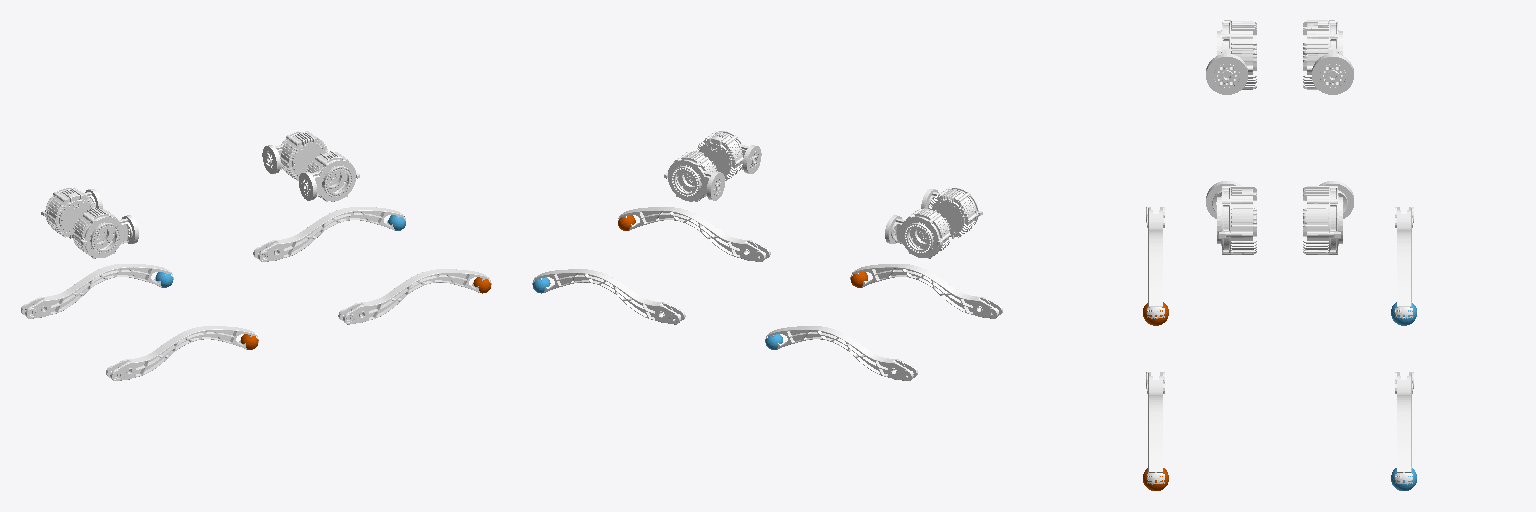
robot.urdf — A01-B:
<?xml version="1.0" encoding="utf-8"?>
<!-- This URDF was automatically created by SolidWorks to URDF Exporter! Originally created by [author] ([email redacted]) 
     Commit Version: 1.6.0-4-g7f85cfe  Build Version: 1.6.7995.38578
     For more information, please see http://wiki.ros.org/sw_urdf_exporter -->
<robot name="A01-B">
  <link name="base_link">
    <visual>
      <origin xyz="0 0 0" rpy="0 0 0"/>
      <geometry>
        <mesh filename="../meshes/trunk.dae"/>
      </geometry>
      <material name="base_color">
        <color rgba="0.79216 0.81961 0.93333 1"/>
      </material>
    </visual>
    <collision>
      <origin xyz="0 0 0" rpy="0 0 0"/>
      <geometry>
        <mesh filename="../meshes/trunk.dae"/>
      </geometry>
    </collision>
  </link>

  <joint name="base_inertia_to_base" type="fixed">
        <parent link="base_link"/>
        <child link="base_inertia"/>
        <origin rpy="0 0 0" xyz="0 0 0"/>
  </joint>
  <link name="base_inertia">
    <inertial>
      <origin xyz="0.00794154323126122 -0.00567038545002237 0.00730825848962973" rpy="0 0 0"/>
      <mass value="30.0746"/>
      <inertia
        ixx="0.3193973603"
        ixy="0.0068169793"
        ixz="0.0488468142"
        iyy="1.180104420"
        iyz="0.0010136007"
        izz="1.3495092040"/>
        <!-- <inertia ixx="0.224" ixy="0.002" ixz="-0.007" iyy="1.399" iyz="-8.168E-05" izz="1.521"/> -->
    </inertial>
  </link>

  <joint name="leg0_fr_joint0" type="revolute">
    <origin xyz="0.36975 -0.1 0" rpy="0 0 0"/>
    <parent link="base_link"/>
    <child link="fr_abad"/>
    <axis xyz="1 0 0"/>
    <limit lower="-0.7854"  upper="0.7854" effort="200"  velocity="9.21"/>
  </joint>

  <link name="fr_abad">
    <inertial>
      <origin xyz="-0.022282 0.016137 0.000446" rpy="3.14 0 3.14"/>
      <mass value="2.4"/>
      <inertia ixx="0.000525995" ixy="-0.000120548" ixz="-0.00000523" iyy="0.001109" iyz="-0.000004269" izz="0.000940"/>
    </inertial>
    <visual>
      <origin
        xyz="0 0 0"
        rpy="3.14 0 3.14"/>
      <geometry>
        <mesh filename="../meshes/hip.dae"/>
      </geometry>
      <material name="">
        <color rgba="1 1 1 1"/>
      </material>
    </visual>
    <collision>
      <origin xyz="0 0 0" rpy="3.14 0 3.14"/>
      <geometry>
        <mesh filename="../meshes/hip.dae"/>
      </geometry>
    </collision>
  </link>
  
  <joint name="leg0_fr_joint1"  type="revolute">
    <origin xyz="0 -0.1343 0" rpy="0 0 0"/>
    <parent link="fr_abad"/>
    <child  link="fr_thigh"/>
    <axis  xyz="0 -1 0"/>
    <limit lower="-3.1765"   upper="0"  effort="200" velocity="14.4"/>
  </joint>

  <link name="fr_thigh">
    <inertial>
      <origin xyz="-0.00344 0.057962 -0.023227" rpy="0 0 0"/>
      <mass value="4.832"/>
      <inertia
        ixx="0.034310220"
        ixy="-0.000914577"
        ixz="-0.002192411"
        iyy="0.030729623"
        iyz="-0.006644699"
        izz="0.007080026"/>
    </inertial>
    <visual>
      <origin
        xyz="0 0 0"
        rpy="0 0 0"/>
      <geometry>
        <mesh
          filename="../meshes/thigh_mirror.dae"/>
      </geometry>
      <material name="">
        <color rgba="1 1 1 1"/>
      </material>
    </visual>
    <collision>
      <origin xyz="0 0 0" rpy="0 0 0"/>
      <geometry>
        <mesh filename="../meshes/thigh_mirror.dae"/>
      </geometry>
    </collision>
  </link>
  
  <joint name="leg0_fr_joint2" type="revolute">
    <origin xyz="0.0 0 -0.35"  rpy="0 0 0"/>
    <parent link="fr_thigh"/>
    <child link="fr_calf"/>
    <axis xyz="0 -1 0"/>
    <limit  lower="0.53163"  upper="2.58501"  effort="200" velocity="10.94"/>
  </joint>

  <link name="fr_calf">
    <inertial>
      <origin xyz="0.01656 0.000105 -0.179108" rpy="0 0 0"/>
      <mass value="0.611"/>
      <inertia
        ixx="0.015478593"
        ixy="0.000001262"
        ixz="0.000740896"
        iyy="0.015806166"
        iyz="-0.000014215"
        izz="0.000413430"/>
    </inertial>
    <visual>
      <origin
        xyz="0 0 0"
        rpy="0 0 0"/>
      <geometry>
        <mesh
          filename="../meshes/calf.dae"/>
      </geometry>
      <material
        name="">
        <color rgba="1 1 1 1"/>
      </material>
    </visual>
    <collision>
      <origin xyz="0 0 0" rpy="0 0 0"/>
      <geometry>
        <mesh
          filename="../meshes/calf.dae"/>
      </geometry>
    </collision>
  </link>
  
  
  <joint name="fr_fix_joint" type="fixed">
      <parent link="fr_calf"/>
      <child link="fr_foot"/>
      <origin rpy="0 0 0" xyz="-0.0 0 -0.39"/>
  </joint>

  <!-- Foot link -->
  <link name="fr_foot">
      <inertial>
            <origin rpy="0 0 0" xyz="0.0 0 0"/>
            <mass value="0.001"/>
            <inertia ixx="1e-8" ixy="0" ixz="0" iyy="1e-8" iyz="0" izz="1e-8"/>
      </inertial>
      <visual>
        <origin rpy="0 0 0" xyz="0 0 0"/>
          <geometry>
               <sphere radius="0.025"/>
          </geometry>
      </visual>
      <collision>
            <origin xyz="0 0 0"/>
            <geometry>
                <sphere radius="0.025"/>
            </geometry>
      </collision>
  </link>

  <joint name="leg1_fl_joint0" type="revolute">
    <origin xyz="0.36975 0.1 0" rpy="0 0 0"/>
    <parent link="base_link"/>
    <child link="fl_abad"/>
    <axis xyz="1 0 0"/>
    <limit lower="-0.7854" upper="0.7854" effort="200" velocity="9.21"/>
  </joint>

  <link name="fl_abad">
    <inertial>
      <origin xyz="-0.022282 -0.016137 0.000446" rpy="0 0 0"/>
      <mass value="2.4"/>
      <inertia ixx="0.000525995" ixy="0.000120548" ixz="-0.00000523" iyy="0.001109" iyz="0.000004269" izz="0.000940"/>
    </inertial>
    <visual>
      <origin xyz="0 0 0" rpy="0 0 3.14"/>
      <geometry>
        <mesh filename="../meshes/hip.dae"/>
      </geometry>
      <material
        name="">
        <color rgba="1 1 1 1"/>
      </material>
    </visual>
    <collision>
      <origin
        xyz="0 0 0"
        rpy="0 0 0"/>
      <geometry>
        <mesh
          filename="../meshes/hip.dae"/>
      </geometry>
    </collision>
  </link>

<joint name="leg1_fl_joint1" type="revolute">
    <origin xyz="0 0.1343 0" rpy="0 0 0"/>
    <parent link="fl_abad"/>
    <child link="fl_thigh"/>
    <axis xyz="0 -1 0"/>
    <limit lower="-3.1765" upper="0" effort="200" velocity="14.4"/>
  </joint>
  
  <link name="fl_thigh">
    <inertial>
      <origin xyz="-0.00344 -0.057962 -0.023227" rpy="0 0 0"/>
      <mass value="4.832"/>
      <inertia
        ixx="0.034310220"
        ixy="0.000914577"
        ixz="-0.002192411"
        iyy="0.030729623"
        iyz="0.006644699"
        izz="0.007080026"/>
    </inertial>
    <visual>
      <origin xyz="0 0 0" rpy="0 0 0"/>
      <geometry>
        <mesh filename="../meshes/thigh.dae"/>
      </geometry>
      <material
        name="">
        <color rgba="1 1 1 1"/>
      </material>
    </visual>
    <collision>
      <origin xyz="0 0 0" rpy="0 0 0"/>
      <geometry>
        <mesh filename="../meshes/thigh.dae"/>
      </geometry>
    </collision>
  </link>

  <joint name="leg1_fl_joint2" type="revolute">
    <origin xyz="0.0 0 -0.35" rpy="0 0 0"/>
    <parent link="fl_thigh"/>
    <child link="fl_calf"/>
    <axis xyz="0 -1 0"/>
    <limit  lower="0.53163"  upper="2.58501"  effort="200" velocity="10.94"/>
  </joint>

  <link name="fl_calf">
    <inertial>
      <origin
        xyz="0.01656 -0.000105 -0.179108"
        rpy="0 0 0"/>
      <mass value="0.611"/>
      <inertia
        ixx="0.015478593"
        ixy="-0.000001262"
        ixz="0.000740896"
        iyy="0.015806166"
        iyz="0.000014215"
        izz="0.000413430"/>
    </inertial>
    <visual>
      <origin
        xyz="0 0 0"
        rpy="0 0 0"/>
      <geometry>
        <mesh
          filename="../meshes/calf.dae"/>
      </geometry>
      <material
        name="">
        <color
          rgba="1 1 1 1"/>
      </material>
    </visual>
    <collision>
      <origin
        xyz="0 0 0"
        rpy="0 0 0"/>
      <geometry>
        <mesh
          filename="../meshes/calf.dae"/>
      </geometry>
    </collision>
  </link>

  <joint name="fl_fix_joint" type="fixed">
      <parent link="fl_calf"/>
      <child link="fl_foot"/>
      <origin rpy="0 0 0" xyz="-0.0 0 -0.39"/>
  </joint>

  <!-- Foot link -->
  <link name="fl_foot">
      <inertial>
            <origin rpy="0 0 0" xyz="0.0 0 0"/>
            <mass value="0.001"/>
            <inertia ixx="1e-8" ixy="0" ixz="0" iyy="1e-8" iyz="0" izz="1e-8"/>
      </inertial>
      <visual>
        <origin rpy="0 0 0" xyz="0 0 0"/>
          <geometry>
               <sphere radius="0.025"/>
          </geometry>
      </visual>
      <collision>
            <origin xyz="0 0 0"/>
            <geometry>
                <sphere radius="0.025"/>
            </geometry>
      </collision>
  </link>

  <joint name="leg2_hr_joint0" type="revolute">
    <origin xyz="-0.36975 -0.1 -0" rpy="0 0 0"/>
    <parent link="base_link"/>
    <child link="hr_abad"/>
    <axis xyz="1 0 0"/>
    <limit lower="-0.7854" upper="0.7854" effort="200" velocity="9.21"/>
  </joint>

  <link name="hr_abad">
    <!-- <inertial>
      <origin
        xyz="0.014896 0.015941 0.000233"
        rpy="0 0 0"/>
      <mass
        value="2.4"/>
      <inertia
        ixx="0.003166456"
        ixy="0.000602743"
        ixz="0.000014925"
        iyy="0.006559053"
        iyz="-0.000022984"
        izz="0.005561835"/>
    </inertial> -->
    <inertial>
      <origin xyz="0.022282 0.016137 0.000446" rpy="0 0 0"/>
      <mass value="2.4"/>
      <inertia ixx="0.000525995" ixy="0.000120548" ixz="0.00000523" iyy="0.001109" iyz="-0.000004269" izz="0.000940"/>
    </inertial>
    <visual>
      <origin
        xyz="0 0 0"
        rpy="0 0 0"/>
      <geometry>
        <mesh
          filename="../meshes/hip.dae"/>
      </geometry>
      <material
        name="">
        <color
          rgba="1 1 1 1"/>
      </material>
    </visual>
    <collision>
      <origin
        xyz="0 0 0"
        rpy="0 0 0"/>
      <geometry>
        <mesh
          filename="../meshes/hip.dae"/>
      </geometry>
    </collision>
  </link>
  
  <joint name="leg2_hr_joint1" type="revolute">
    <origin xyz="0 -0.1343 0" rpy="0 0 0"/>
    <parent link="hr_abad"/>
    <child link="hr_thigh"/>
    <axis xyz="0 -1 0"/>
    <limit lower="-3.1765" upper="0" effort="200" velocity="14.4"/>
  </joint>

  <link
    name="hr_thigh">
    <inertial>
      <origin
        xyz="0.00344 0.057962 -0.023227"
        rpy="0 0 0"/>
      <mass
        value="4.832"/>
      <inertia
        ixx="0.034310220"
        ixy="0.000914577"
        ixz="0.002192411"
        iyy="0.030729623"
        iyz="-0.006644699"
        izz="0.007080026"/>
    </inertial>
    <visual>
      <origin
        xyz="0 0 0"
        rpy="0 0 0"/>
      <geometry>
        <mesh
          filename="../meshes/thigh_mirror.dae"/>
      </geometry>
      <material
        name="">
        <color
          rgba="1 1 1 1"/>
      </material>
    </visual>
    <collision>
      <origin
        xyz="0 0 0"
        rpy="0 0 0"/>
      <geometry>
        <mesh
          filename="../meshes/thigh_mirror.dae"/>
      </geometry>
    </collision>
  </link>
  
  <joint name="leg2_hr_joint2" type="revolute">
    <origin xyz="0.0 0 -0.35" rpy="0 0 0"/>
    <parent link="hr_thigh"/>
    <child link="hr_calf"/>
    <axis xyz="0 -1 0"/>
    <limit  lower="0.53163"  upper="2.58501"  effort="200" velocity="10.94"/>
  </joint>

  <link name="hr_calf">
    <inertial>
      <origin xyz="0.01656 0.000105 -0.179108" rpy="0 0 0"/>
      <mass value="0.611"/>
      <inertia
        ixx="0.015478593"
        ixy="0.000001262"
        ixz="0.000740896"
        iyy="0.015806166"
        iyz="-0.000014215"
        izz="0.000413430"/>
    </inertial>
    <visual>
      <origin
        xyz="0 0 0"
        rpy="0 0 0"/>
      <geometry>
        <mesh filename="../meshes/calf.dae"/>
      </geometry>
      <material
        name="">
        <color rgba="1 1 1 1"/>
      </material>
    </visual>
    <collision>
      <origin
        xyz="0 0 0"
        rpy="0 0 0"/>
      <geometry>
        <mesh
          filename="../meshes/calf.dae"/>
      </geometry>
    </collision>
  </link>
  

  <joint name="hr_fix_joint" type="fixed">
      <parent link="hr_calf"/>
      <child link="hr_foot"/>
      <origin rpy="0 0 0" xyz="-0.0 0 -0.39"/>
  </joint>

  <!-- Foot link -->
  <link name="hr_foot">
      <inertial>
            <origin rpy="0 0 0" xyz="0.0 0 0"/>
            <mass value="0.001"/>
            <inertia ixx="1e-8" ixy="0" ixz="0" iyy="1e-8" iyz="0" izz="1e-8"/>
      </inertial>
      <visual>
        <origin rpy="0 0 0" xyz="0 0 0"/>
          <geometry>
               <sphere radius="0.025"/>
          </geometry>
      </visual>
      <collision>
            <origin xyz="0 0 0"/>
            <geometry>
                <sphere radius="0.025"/>
            </geometry>
      </collision>
  </link>

  <joint name="leg3_hl_joint0" type="revolute">
    <origin xyz="-0.36975 0.1 0" rpy="0 0 0"/>
    <parent link="base_link"/>
    <child link="hl_abad"/>
    <axis xyz="1 0 0"/>
    <limit lower="-0.7854" upper="0.7854" effort="200" velocity="9.21"/>
  </joint>

  <link name="hl_abad">
    <!-- <inertial>
      <origin
        xyz="0.014896 -0.015941 0.000233"
        rpy="0 0 0"/>
      <mass value="2.4"/>
      <inertia
        ixx="0.003166456"
        ixy="-0.000602743"
        ixz="0.000014925"
        iyy="0.006559053"
        iyz="0.000022984"
        izz="0.005561835"/>
    </inertial> -->
    <inertial>
      <origin xyz="0.022282 -0.016137 0.000446" rpy="0 0 0"/>
      <mass value="2.4"/>
      <inertia ixx="0.000525995" ixy="-0.000120548" ixz="0.00000523" iyy="0.001109" iyz="0.000004269" izz="0.000940"/>
    </inertial>
    <visual>
      <origin
        xyz="0 0 0"
        rpy="3.14 0 0"/>
      <geometry>
        <mesh
          filename="../meshes/hip.dae"/>
      </geometry>
      <material
        name="">
        <color
          rgba="1 1 1 1"/>
      </material>
    </visual>
    <collision>
      <origin
        xyz="0 0 0"
        rpy="0 0 0"/>
      <geometry>
        <mesh
          filename="../meshes/hip.dae"/>
      </geometry>
    </collision>
  </link>
  
  <joint name="leg3_hl_joint1" type="revolute">
    <origin xyz="0 0.1343 0" rpy="0 0 0"/>
    <parent link="hl_abad"/>
    <child link="hl_thigh"/>
    <axis xyz="0 -1 0"/>
    <limit lower="-3.1765" upper="0" effort="200" velocity="14.4"/>
  </joint>

  <link
    name="hl_thigh">
    <inertial>
      <origin
        xyz="0.00344 -0.057962 -0.023227"
        rpy="0 0 0"/>
      <mass
        value="4.832"/>
      <inertia
        ixx="0.034310220"
        ixy="-0.000914577"
        ixz="0.002192411"
        iyy="0.030729623"
        iyz="0.006644699"
        izz="0.007080026"/>
    </inertial>
    <visual>
      <origin
        xyz="0 0 0"
        rpy="0 0 0"/>
      <geometry>
        <mesh
          filename="../meshes/thigh.dae"/>
      </geometry>
      <material
        name="">
        <color
          rgba="1 1 1 1"/>
      </material>
    </visual>
    <collision>
      <origin
        xyz="0 0 0"
        rpy="0 0 0"/>
      <geometry>
        <mesh
          filename="../meshes/thigh.dae"/>
      </geometry>
    </collision>
  </link>
  
  <joint name="leg3_hl_joint2" type="revolute">
    <origin xyz="0.0 0 -0.35" rpy="0 0 0"/>
    <parent link="hl_thigh"/>
    <child link="hl_calf"/>
    <axis xyz="0 -1 0"/>
    <limit  lower="0.53163"  upper="2.58501"  effort="200" velocity="10.94"/>
  </joint>

  <link name="hl_calf">
    <inertial>
      <origin xyz="0.01656 -0.000105 -0.179108" rpy="0 0 0"/>
      <mass value="0.611"/>
      <inertia
        ixx="0.015478593"
        ixy="0.000001262"
        ixz="0.000740896"
        iyy="0.015806166"
        iyz="0.000014215"
        izz="0.000413430"/>
    </inertial>
    <visual>
      <origin
        xyz="0 0 0"
        rpy="0 0 0"/>
      <geometry>
        <mesh
          filename="../meshes/calf.dae"/>
      </geometry>
      <material
        name="">
        <color
          rgba="1 1 1 1"/>
      </material>
    </visual>
    <collision>
      <origin
        xyz="0 0 0"
        rpy="0 0 0"/>
      <geometry>
        <mesh
          filename="../meshes/calf.dae"/>
      </geometry>
    </collision>
  </link>
  
  <joint name="hl_fix_joint" type="fixed">
      <parent link="hl_calf"/>
      <child link="hl_foot"/>
      <origin rpy="0 0 0" xyz="-0.0 0 -0.39"/>
  </joint>

  <!-- Foot link -->
  <link name="hl_foot">
      <inertial>
            <origin rpy="0 0 0" xyz="0.0 0 0"/>
            <mass value="0.001"/>
            <inertia ixx="1e-8" ixy="0" ixz="0" iyy="1e-8" iyz="0" izz="1e-8"/>
      </inertial>
      <visual>
        <origin rpy="0 0 0" xyz="0 0 0"/>
          <geometry>
               <sphere radius="0.025"/>Foot
          </geometry>
      </visual>
      <collision>
            <origin xyz="0 0 0"/>
            <geometry>
                <sphere radius="0.025"/>
            </geometry>
      </collision>
  </link>
  
</robot>

--- What the picture shows (computed from the rendered views, not written in the file) ---
The picture shows the robot from 3 angles, left to right: view 1: azimuth 30°, elevation 25°; view 2: azimuth 150°, elevation 25°; view 3: azimuth 270°, elevation 25°; orthographic projection.
Robot: A01-B — 18 links, 17 joints (12 revolute, 5 fixed); root link base_link; default pose: joints at zero except 4 at the middle of their limits (leg0_fr_joint2 = 1.56, leg1_fl_joint2 = 1.56, leg2_hr_joint2 = 1.56, leg3_hl_joint2 = 1.56).
Links seen in each view (by area): view 1: hr_abad, fr_calf, fl_calf, hr_calf, hl_calf, fr_abad, fl_abad, hl_abad; view 2: hl_abad, fl_calf, fr_calf, hl_calf, hr_calf, fl_abad, fr_abad, hr_abad; view 3: hl_abad, hr_abad, fl_abad, fr_abad, fr_calf, fl_calf, hr_calf, hl_calf.
Link boxes in pixels (bbox=[...]): hr_abad: bbox=[73, 208, 138, 258]; fr_calf: bbox=[338, 269, 491, 324]; fl_calf: bbox=[253, 207, 405, 261]; hr_calf: bbox=[106, 326, 258, 380]; hl_calf: bbox=[21, 264, 173, 318]; fr_abad: bbox=[299, 151, 359, 201]; fl_abad: bbox=[262, 131, 327, 180]; hl_abad: bbox=[41, 187, 102, 238]; hl_abad: bbox=[885, 208, 950, 258]; fl_calf: bbox=[532, 269, 685, 324]; fr_calf: bbox=[618, 207, 770, 261]; hl_calf: bbox=[765, 326, 917, 380]; hr_calf: bbox=[850, 264, 1002, 318]; fl_abad: bbox=[664, 151, 724, 201]; fr_abad: bbox=[696, 131, 761, 180]; hr_abad: bbox=[921, 187, 982, 238]; hl_abad: bbox=[1303, 20, 1353, 94]; hr_abad: bbox=[1206, 20, 1256, 94]; fl_abad: bbox=[1303, 181, 1353, 254]; fr_abad: bbox=[1206, 181, 1256, 254]; fr_calf: bbox=[1146, 372, 1164, 484]; fl_calf: bbox=[1395, 372, 1413, 484]; hr_calf: bbox=[1146, 207, 1164, 318]; hl_calf: bbox=[1395, 207, 1413, 318].
Bounding box of the posed robot: 1.22 × 0.5186 × 0.4449 m (x, y, z).
8 mesh visuals loaded from 5 distinct referenced files (2 Collada DAE); not drawn: 5 (reference not matched to a file when rendering).
